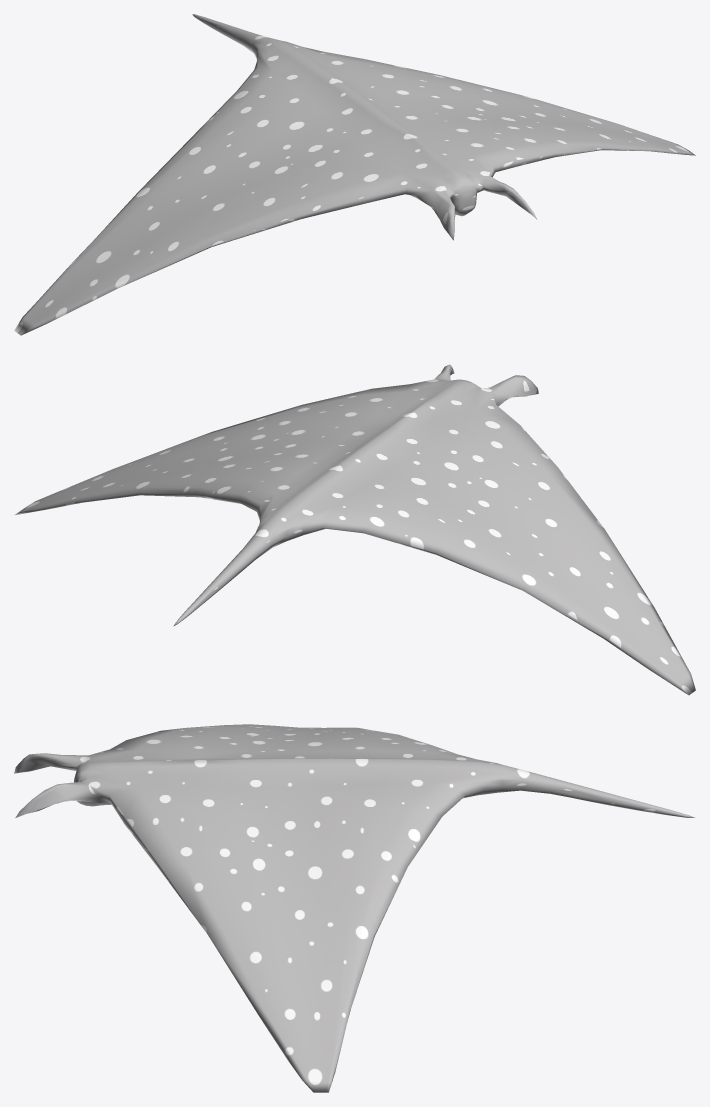
Rendered from something_01.obj.
3 views of the same model, one above another, from view 1: azimuth 30°, elevation 25°; view 2: azimuth 150°, elevation 25°; view 3: azimuth 270°, elevation 25° (orthographic). The views are drawn at different scales.
Parts seen in each view (by area): view 1: something_01:Box01; view 2: something_01:Box01; view 3: something_01:Box01.
Part boxes in pixels (left/top/right/bottom): something_01:Box01: left=14, top=14, right=695, bottom=335; something_01:Box01: left=14, top=364, right=695, bottom=695; something_01:Box01: left=14, top=724, right=694, bottom=1092.
Size of the model in its own units: 99.83 by 22.24 by 80.4.
Materials: 1 (1 with a texture image).
